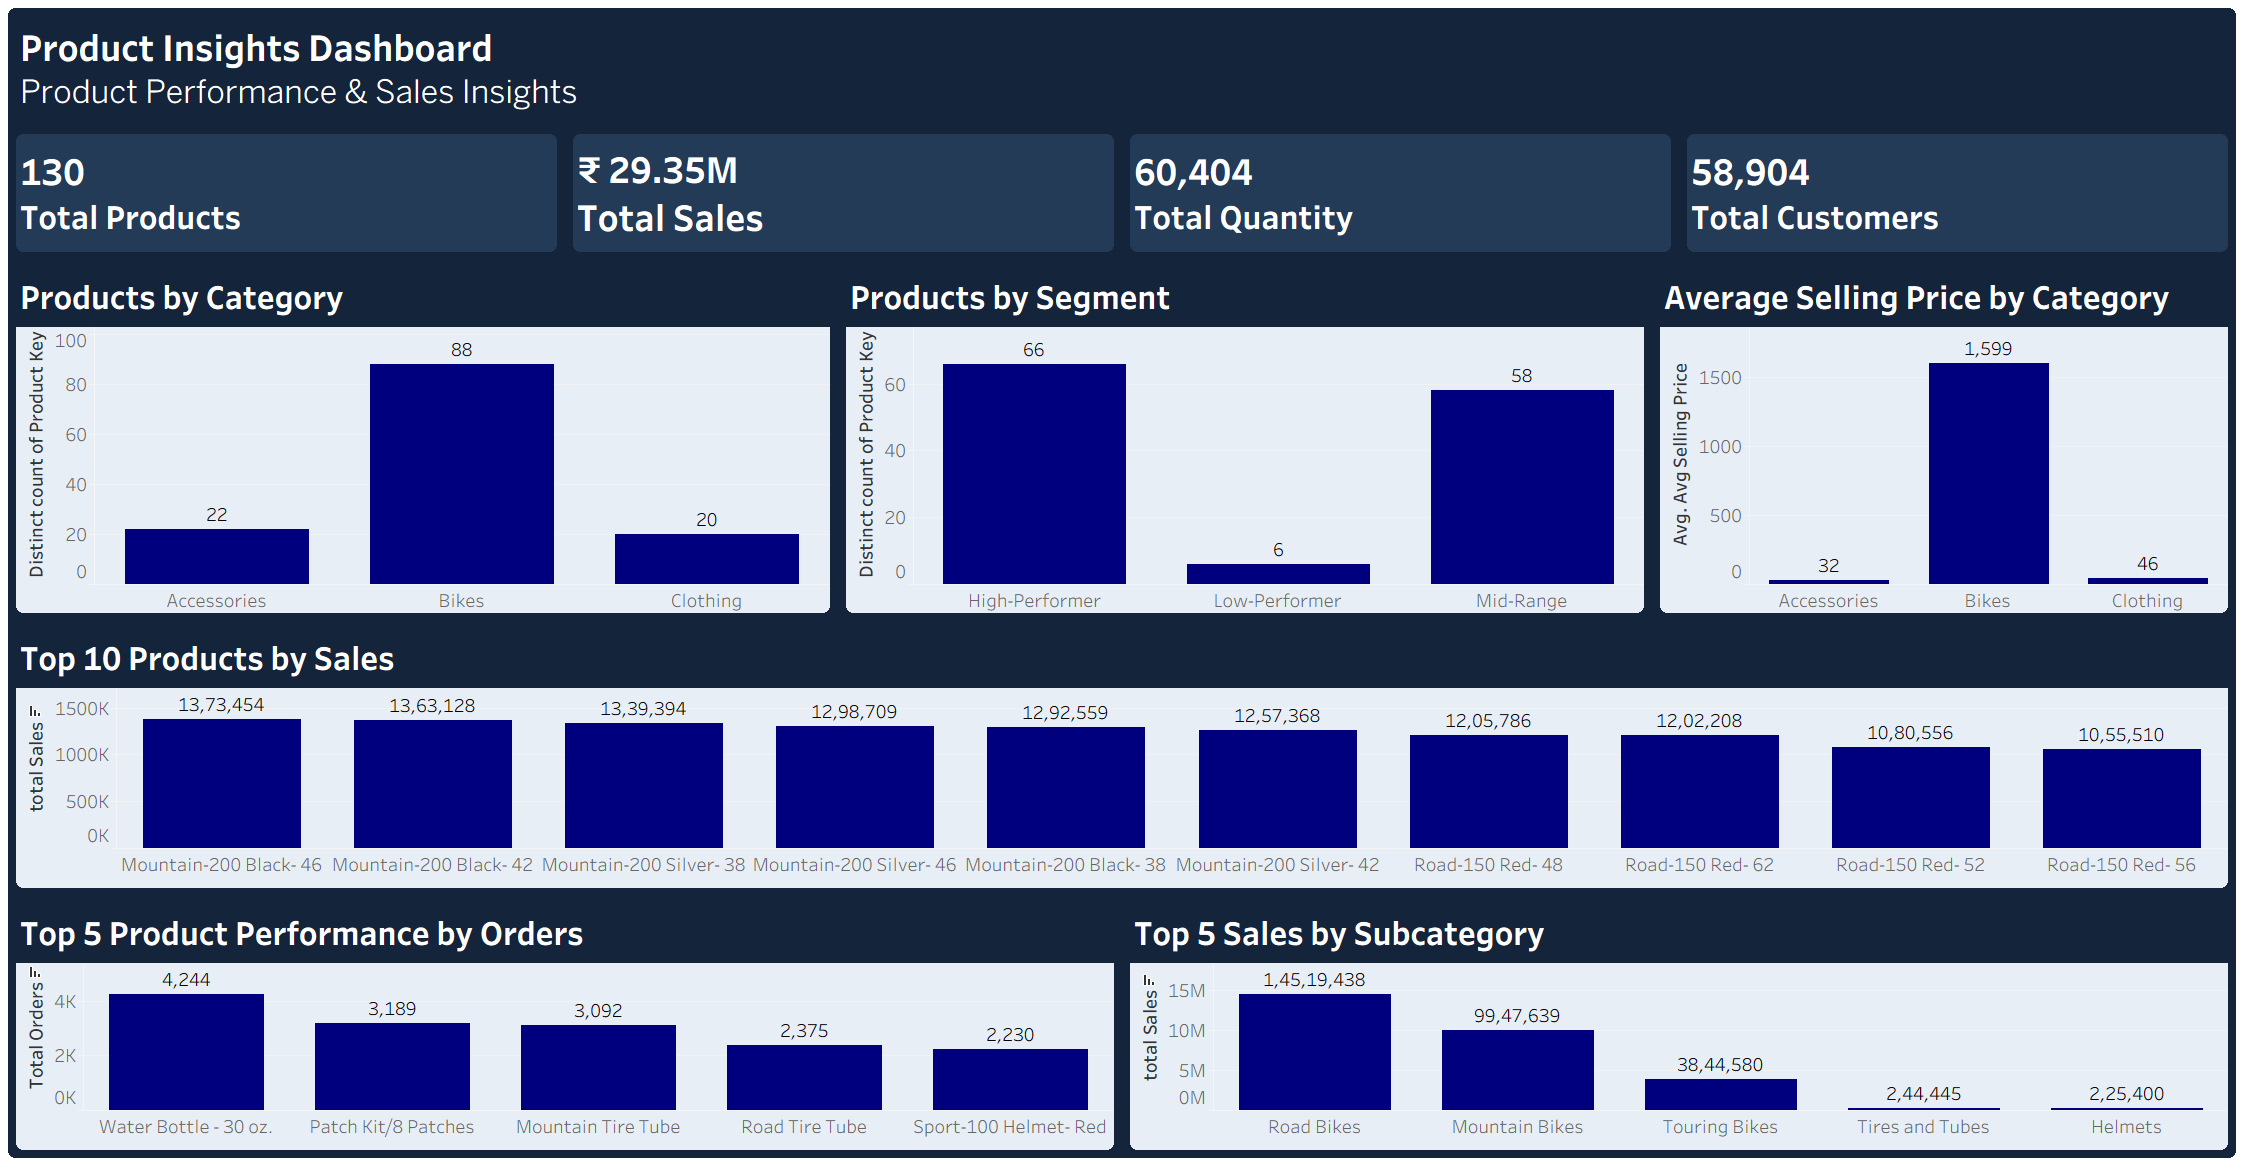

This screenshot's page, from the dashboard's own definition file:
{"tool":"tableau","page":{"name":"Product Insights Dashboard","canvas":[1000,1000],"units":"permille","ordinal":0},"visuals":[{"type":"title","box":[3.6,6.9,992.9,101.2]},{"type":"worksheet","title":"KPI Total Products","mark":"Automatic","box":[3.6,108.1,248.2,114.9]},{"type":"worksheet","title":"KPI Total Sales","mark":"Automatic","box":[251.8,108.1,248.2,114.9]},{"type":"worksheet","title":"KPI Total Quantity","mark":"Automatic","box":[500,108.1,248.2,114.9]},{"type":"worksheet","title":"KPI Total Customers","mark":"Automatic","box":[748.2,108.1,248.2,114.9]},{"type":"worksheet","title":"Products by Category","mark":"Automatic","rows":["product_key"],"cols":["category"],"box":[3.6,223,369.9,309.6]},{"type":"worksheet","title":"Products by Segment","mark":"Automatic","rows":["product_key"],"cols":["product_segment"],"box":[373.4,223,362.8,309.6]},{"type":"worksheet","title":"Average Selling Price by Category","mark":"Automatic","rows":["avg_selling_price"],"cols":["category"],"box":[736.2,223,260.2,309.6]},{"type":"worksheet","title":"Top 10 Products by Sales","mark":"Automatic","rows":["total_Sales"],"cols":["product_name"],"box":[3.6,532.6,992.9,235.8]},{"type":"worksheet","title":"Top 5 Product Performance by Orders","mark":"Automatic","rows":["total_orders"],"cols":["product_name"],"box":[3.6,768.4,496.4,224.7]},{"type":"worksheet","title":"Top 5 Sales by Subcategory","mark":"Automatic","rows":["total_Sales"],"cols":["subcategory"],"box":[500,768.4,496.4,224.7]}]}

Visuals, with their boxes on the dashboard's canvas, which has no fixed pixel size, in thousandths of its width and height (x1, y1, x2, y2). These are canvas units, not pixel positions in the 2244x1166 screenshot, which may show the page scaled, cropped or inside an application window:
title: {"left": 4, "top": 7, "right": 996, "bottom": 108}
"KPI Total Products" worksheet: {"left": 4, "top": 108, "right": 252, "bottom": 223}
"KPI Total Sales" worksheet: {"left": 252, "top": 108, "right": 500, "bottom": 223}
"KPI Total Quantity" worksheet: {"left": 500, "top": 108, "right": 748, "bottom": 223}
"KPI Total Customers" worksheet: {"left": 748, "top": 108, "right": 996, "bottom": 223}
"Products by Category" worksheet: {"left": 4, "top": 223, "right": 374, "bottom": 533}
"Products by Segment" worksheet: {"left": 373, "top": 223, "right": 736, "bottom": 533}
"Average Selling Price by Category" worksheet: {"left": 736, "top": 223, "right": 996, "bottom": 533}
"Top 10 Products by Sales" worksheet: {"left": 4, "top": 533, "right": 996, "bottom": 768}
"Top 5 Product Performance by Orders" worksheet: {"left": 4, "top": 768, "right": 500, "bottom": 993}
"Top 5 Sales by Subcategory" worksheet: {"left": 500, "top": 768, "right": 996, "bottom": 993}
